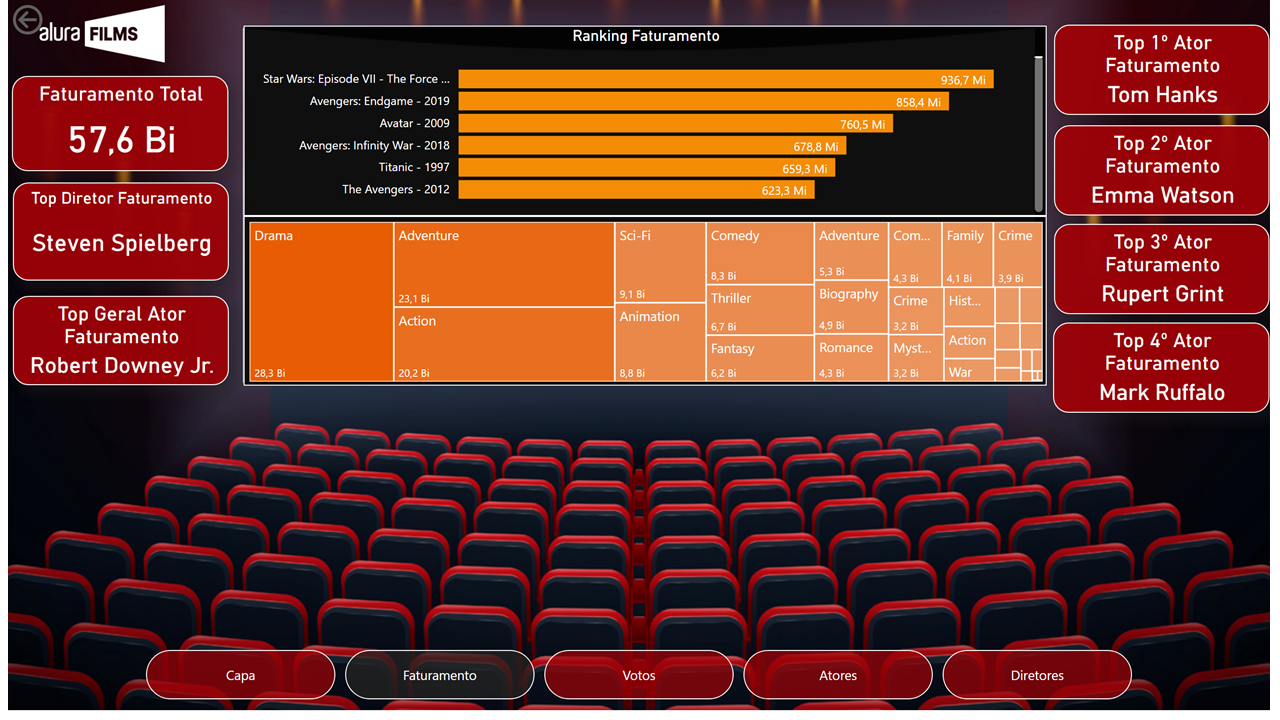

This screenshot's page, from the dashboard's own definition file:
{"tool":"powerbi","page":{"name":"Faturamento","canvas":[1280,720],"ordinal":1},"visuals":[{"type":"image","box":[0,0,190.7,68.7],"z":0},{"type":"barChart","title":"Ranking Faturamento","fields":{"Category":["Filmes.Nome_Ano"],"Y":["_Medidas.Faturamento_Total"]},"box":[239.1,25.6,814.5,193.2],"z":1000},{"type":"card","title":"Faturamento Total","fields":{"Values":["_Medidas.Faturamento_Total"]},"box":[4.1,76.9,219.5,96.4],"z":2000},{"type":"card","title":"Top Diretor Faturamento","fields":{"Values":["_Medidas.Maior_Diretor"]},"box":[5.3,184.7,218.8,99.3],"z":3000},{"type":"card","title":"Top 1º Ator Faturamento","fields":{"Values":["_Medidas.Maior_Ator_faturamento"]},"box":[1061.5,25.2,218.5,91.3],"z":4000},{"type":"actionButton","box":[0,0,100,40],"z":5000},{"type":"card","title":"Top 2º Ator Faturamento","fields":{"Values":["_Medidas.Maior_2_Ator_faturamento"]},"box":[1061.5,127.3,218.5,91.3],"z":6000},{"type":"card","title":"Top 3º Ator Faturamento","fields":{"Values":["_Medidas.Maior_3_Ator_faturamento"]},"box":[1061.5,226.9,218.5,91.3],"z":7000},{"type":"card","title":"Top 4º Ator Faturamento","fields":{"Values":["_Medidas.Maior_4_Ator_faturamento"]},"box":[1060.3,326.6,219.7,91.3],"z":8000},{"type":"card","title":"Top Geral Ator Faturamento","fields":{"Values":["_Medidas.Maior_Geral_Ator_faturamento"]},"box":[5.3,300,218.8,90.7],"z":9000},{"type":"treemap","title":"Faturamento","fields":{"Group":["Gêneros.Genre"],"Values":["Divide(_Medidas.Faturamento_Total, ScopedEval(_Medidas.Faturamento_Total, []))"]},"box":[239.1,218.8,814.5,171.9],"z":10000},{"type":"pageNavigator","title":"ad","box":[140.5,659.2,1000.2,50.4],"z":11000}]}

Visuals, with their boxes in screenshot pixels (x1, y1, x2, y2), scaled from the page's 1280x720 canvas onto the 1280x720 screenshot:
image: x1=0, y1=0, x2=191, y2=69
"Ranking Faturamento" barChart: x1=239, y1=26, x2=1054, y2=219
"Faturamento Total" card: x1=4, y1=77, x2=224, y2=173
"Top Diretor Faturamento" card: x1=5, y1=185, x2=224, y2=284
"Top 1º Ator Faturamento" card: x1=1062, y1=25, x2=1279, y2=116
actionButton: x1=0, y1=0, x2=100, y2=40
"Top 2º Ator Faturamento" card: x1=1062, y1=127, x2=1279, y2=219
"Top 3º Ator Faturamento" card: x1=1062, y1=227, x2=1279, y2=318
"Top 4º Ator Faturamento" card: x1=1060, y1=327, x2=1279, y2=418
"Top Geral Ator Faturamento" card: x1=5, y1=300, x2=224, y2=391
"Faturamento" treemap: x1=239, y1=219, x2=1054, y2=391
"ad" pageNavigator: x1=140, y1=659, x2=1141, y2=710
